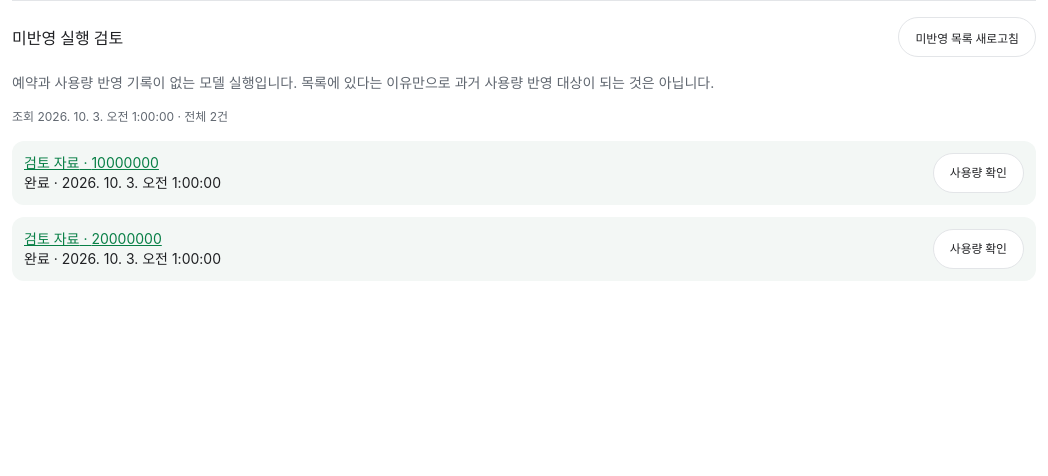
미반영 실행 사용량 확인 › 증거가 없거나 불완전한 경우 사용량 0이나 합격으로 표시하지 않는다
The width and height of the screenshot is (1048, 476).
Click the button "사용량 확인" in the row of "10000000".
click(978, 173)  # box [933,153,1024,193]
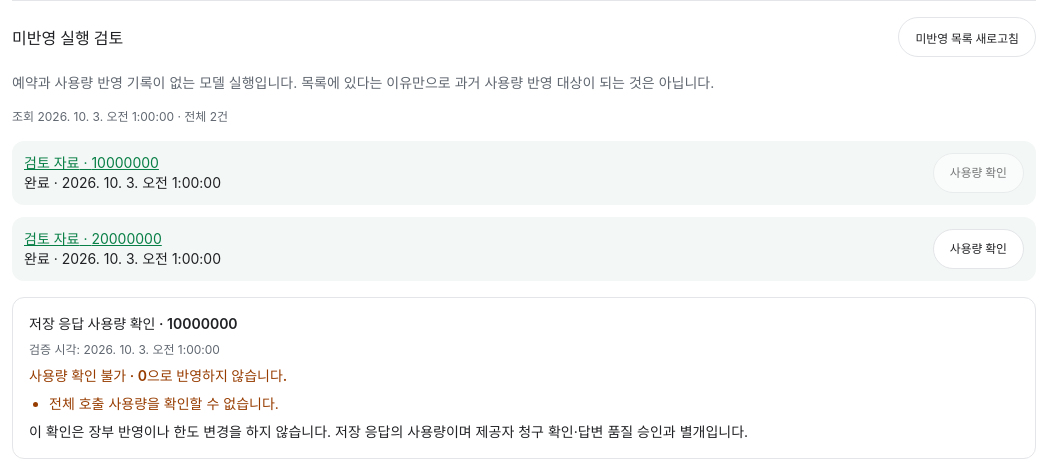
Result: the text "사용량 확인 불가 · 0으로 반영하지 않습니다." is shown at [29,367,287,384]
Result: the list item "전체 호출 사용량을 확인할 수 없습니다." is shown at [49,395,279,412]
